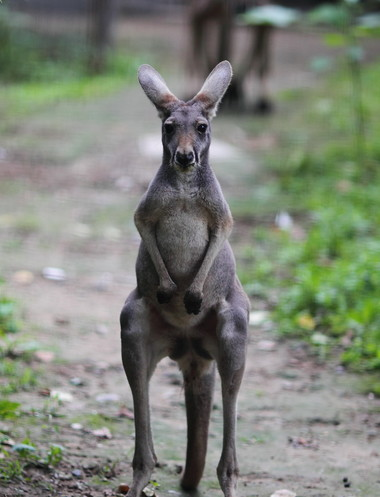kangaroo: (113, 57, 253, 497)
